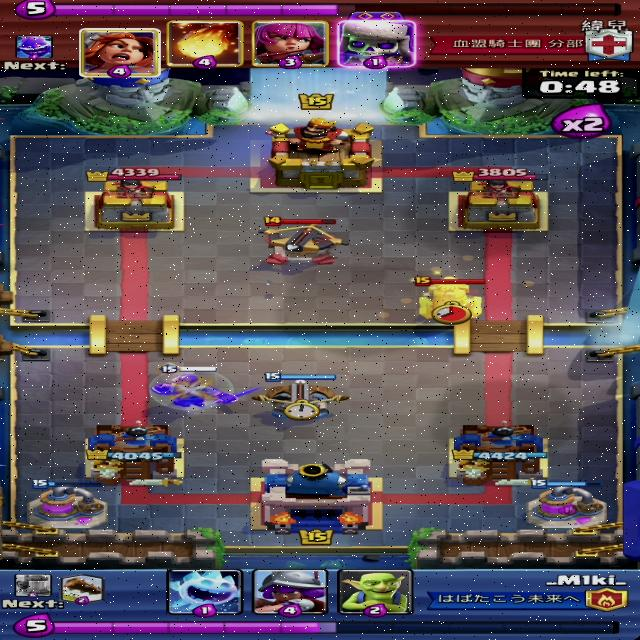Enemy-Tesla: (414, 276, 486, 322)
Enemy-XBow: (255, 217, 351, 266)
Player-ElixirPump: (25, 479, 110, 531), (525, 478, 610, 530)
Player-Knight-Evo: (146, 362, 262, 412)
Player-XBow: (253, 372, 352, 422)
